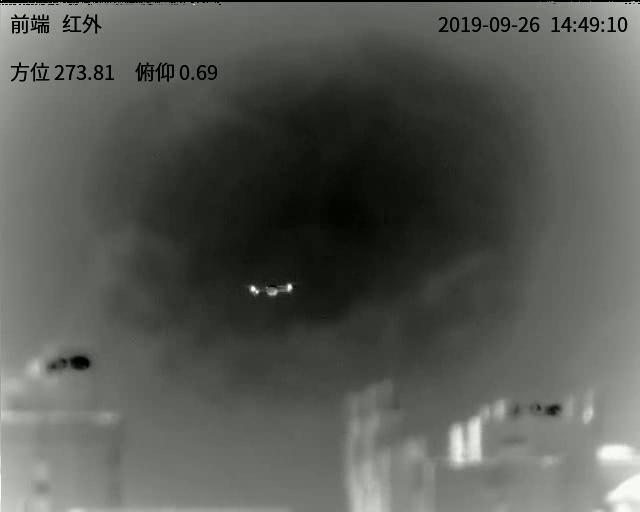DRONE: (248, 281, 294, 297)
